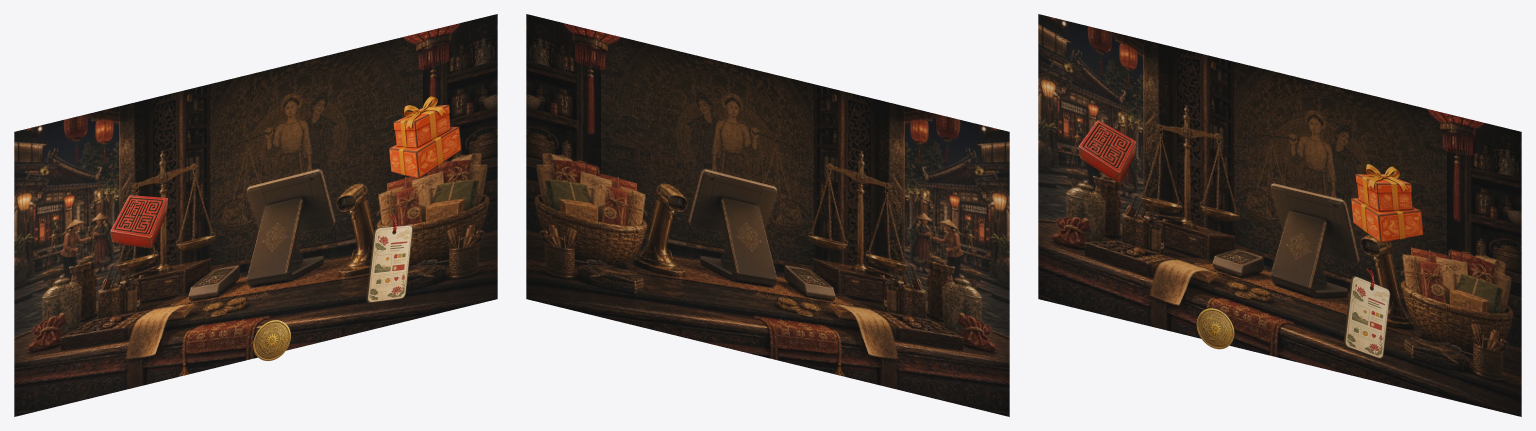
The model's file is POS_V53_environment_251209v2_compressed-optimized-a74b92da4f.glb.
3 renders of one model, left to right at view 1: azimuth 30°, elevation 25°; view 2: azimuth 150°, elevation 25°; view 3: azimuth 330°, elevation 25°, orthographic.
Visible parts, largest first — view 1: Vietfolk_retail_background, Vietfolk_retail_giftbox, Vietfolk_retail_tag, Vietfolk_retail_stamp, Vietfolk_retail_coin; view 2: Vietfolk_retail_background; view 3: Vietfolk_retail_background, Vietfolk_retail_giftbox, Vietfolk_retail_tag, Vietfolk_retail_stamp, Vietfolk_retail_coin.
Part boxes in pixels (bbox=[...]): Vietfolk_retail_background: bbox=[14, 14, 497, 416]; Vietfolk_retail_giftbox: bbox=[389, 96, 461, 178]; Vietfolk_retail_tag: bbox=[366, 214, 412, 302]; Vietfolk_retail_stamp: bbox=[110, 195, 168, 248]; Vietfolk_retail_coin: bbox=[253, 320, 290, 360]; Vietfolk_retail_background: bbox=[526, 14, 1009, 416]; Vietfolk_retail_background: bbox=[1038, 14, 1521, 416]; Vietfolk_retail_giftbox: bbox=[1351, 164, 1423, 243]; Vietfolk_retail_tag: bbox=[1343, 268, 1390, 358]; Vietfolk_retail_stamp: bbox=[1078, 120, 1136, 183]; Vietfolk_retail_coin: bbox=[1196, 308, 1234, 349].
Bounding box in the file's own units: 3.6 × 2.03 × 0.52.
Materials: 5 (5 with a texture image).
